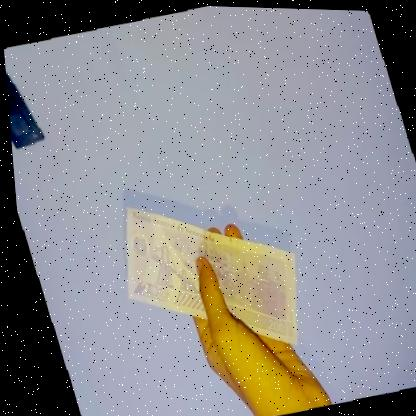vef_back: (93, 171, 317, 376)
